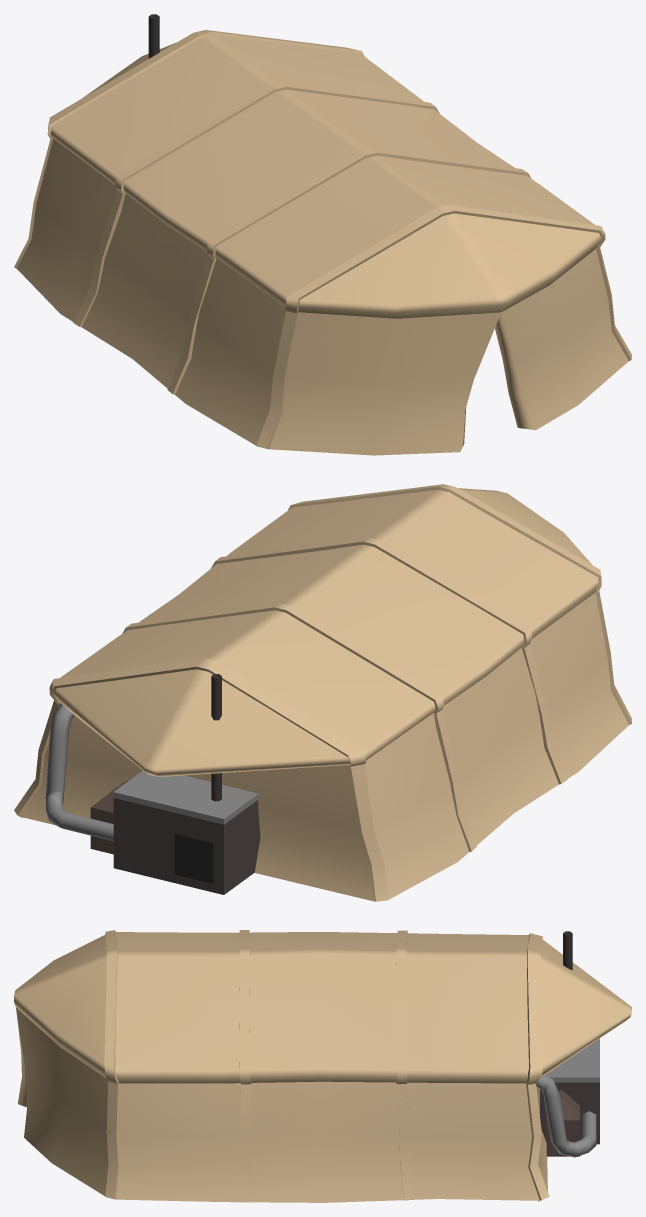
The model's file is ds_tent_b.glb.
3 views of the same model, one above another, from view 1: azimuth 30°, elevation 25°; view 2: azimuth 150°, elevation 25°; view 3: azimuth 270°, elevation 25° (orthographic). The views are drawn at different scales.
Visible parts, largest first — view 1: ds_tent_b; view 2: ds_tent_b; view 3: ds_tent_b.
Part boxes in pixels (<box>): ds_tent_b: <box>14,14,631,455</box>; ds_tent_b: <box>14,484,631,901</box>; ds_tent_b: <box>14,930,631,1202</box>.
Size of the model in its own units: 6.69 by 3.31 by 10.47.
